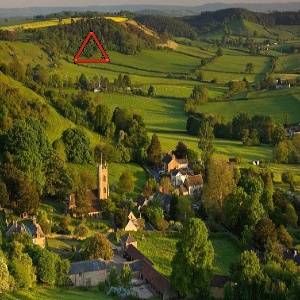triangle: (69, 30, 111, 66)
